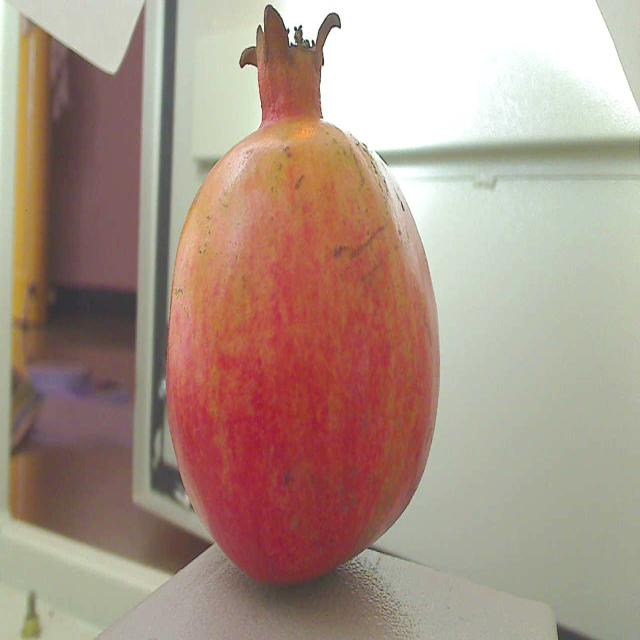pomegranate: (160, 0, 457, 589)
